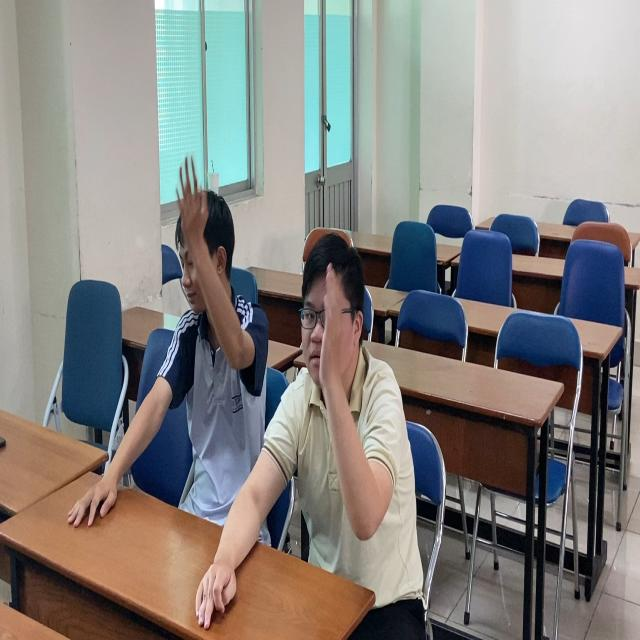raise_hand: (180, 203, 464, 640), (66, 131, 284, 561)
